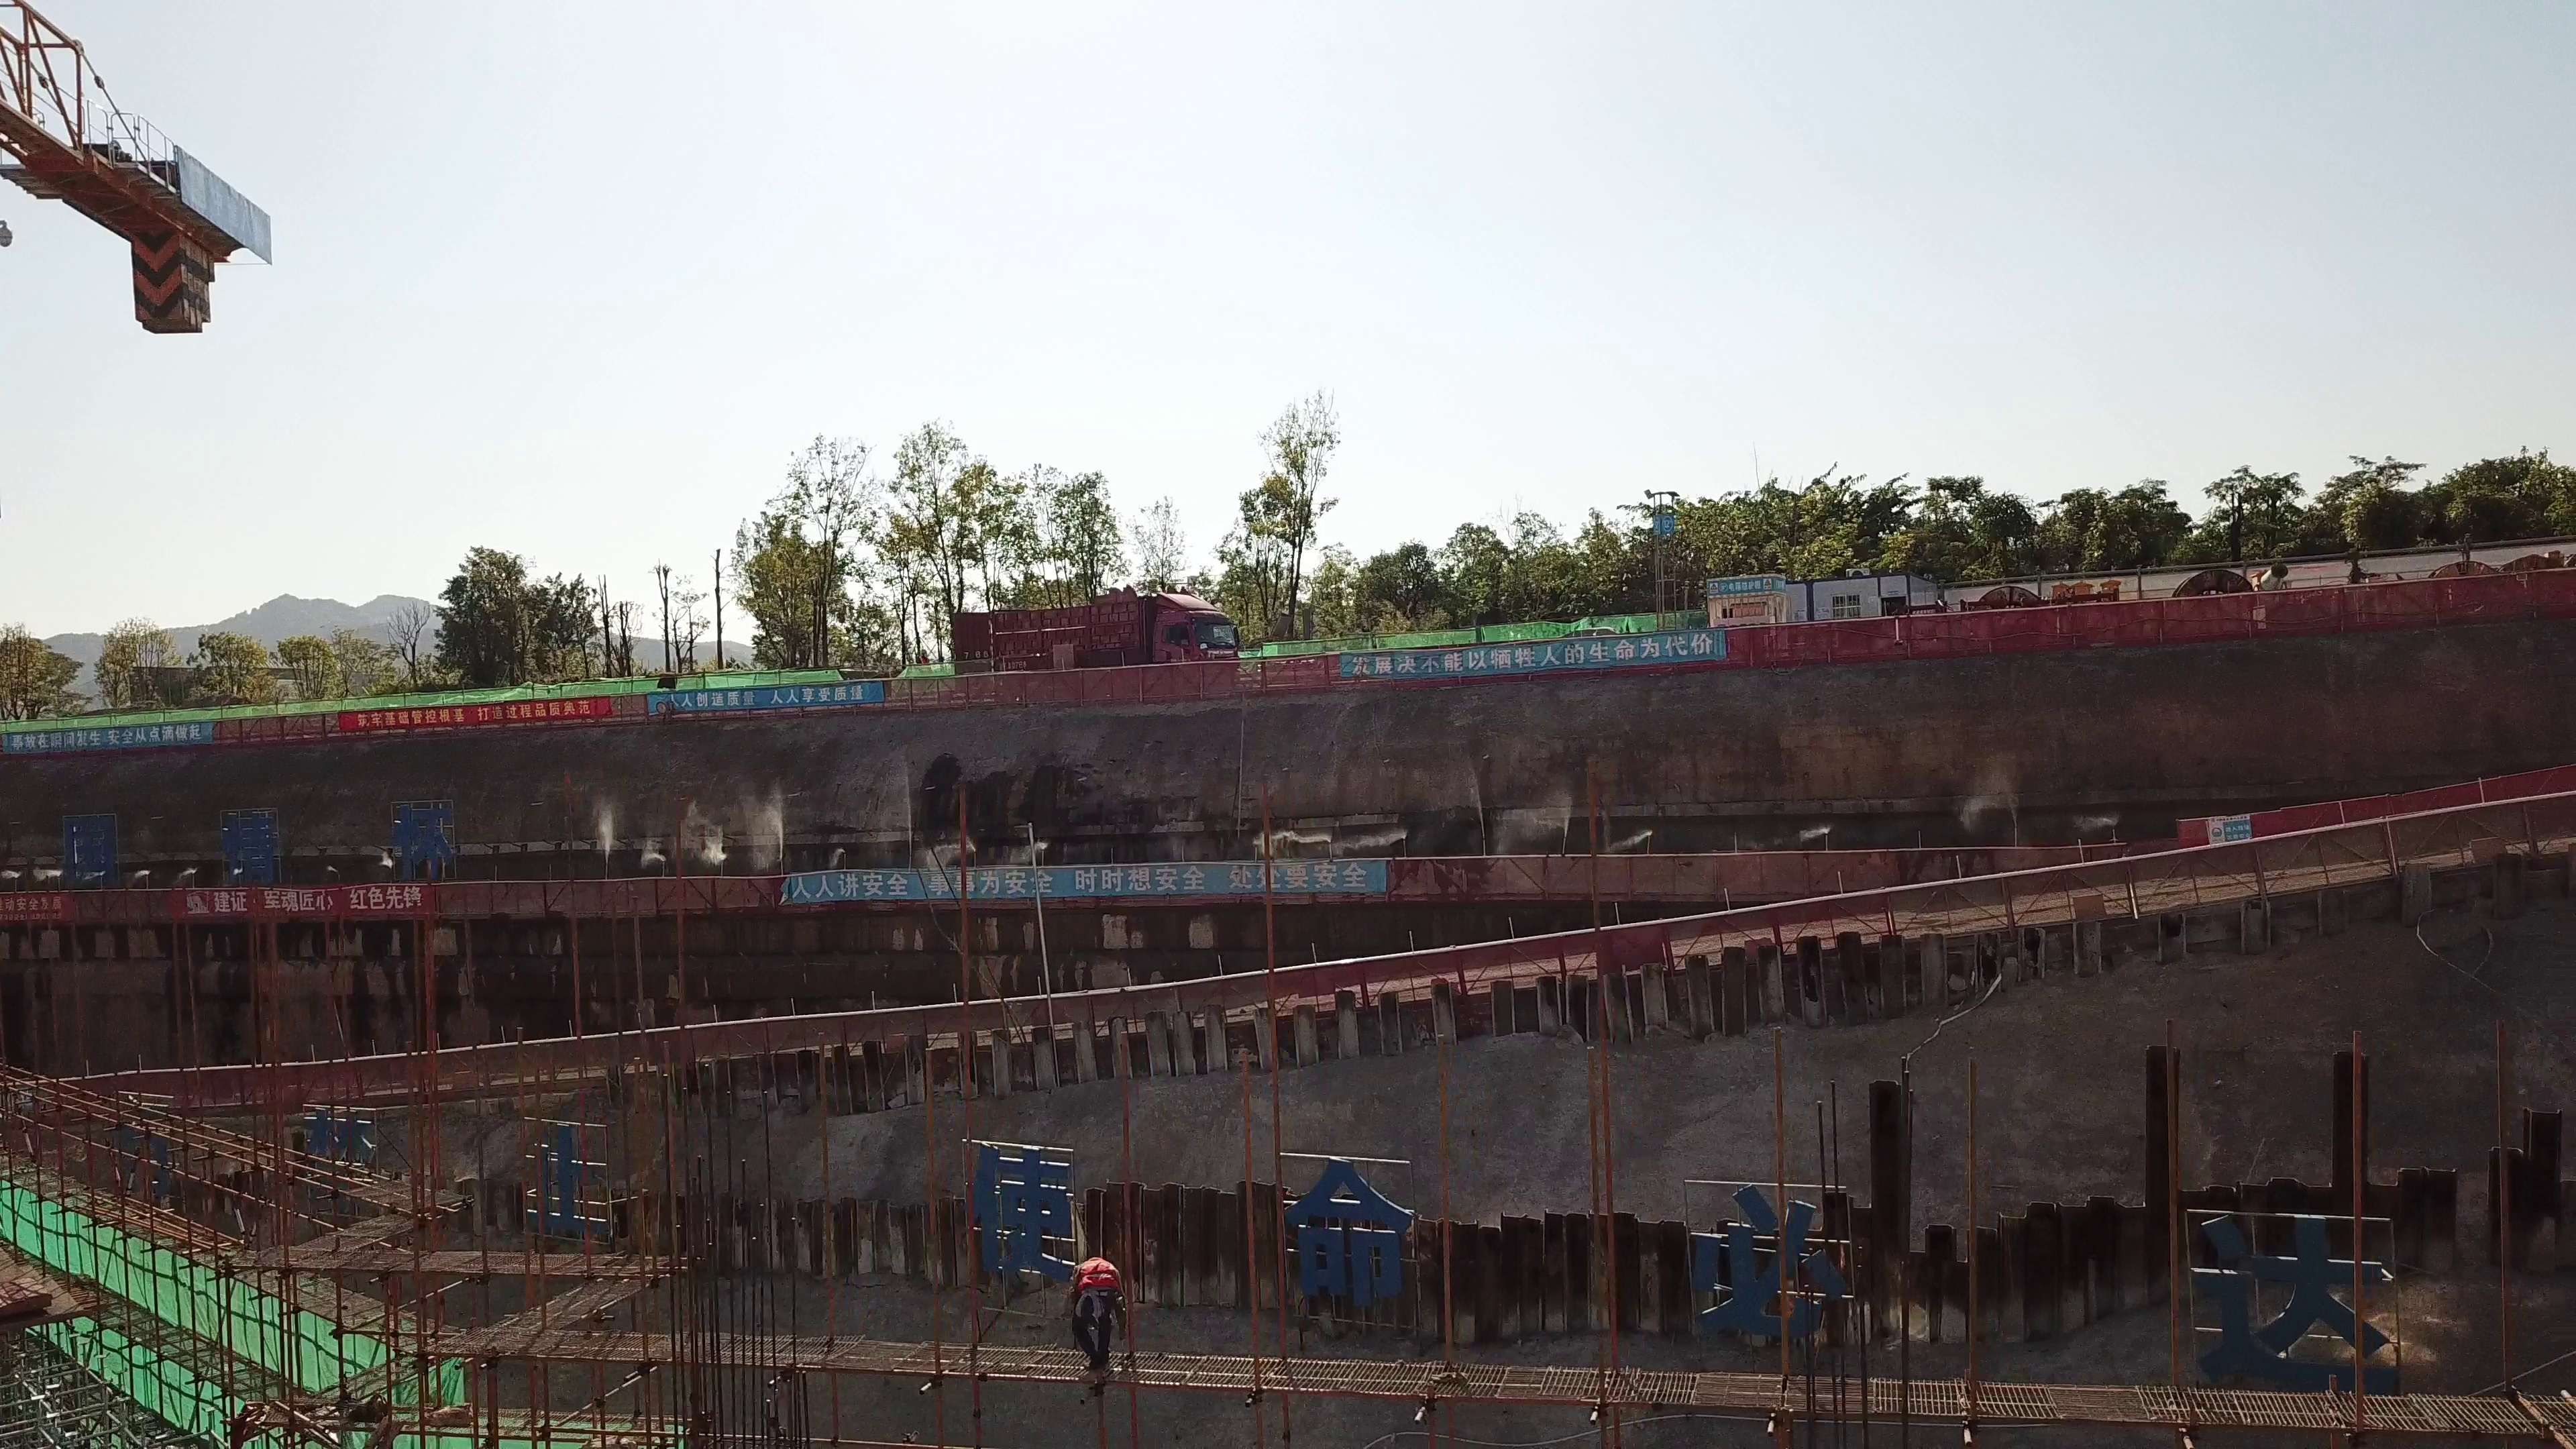fence: (2062, 570, 2569, 651), (2267, 795, 2569, 896), (1460, 903, 1778, 998), (899, 651, 1337, 715), (1721, 605, 2068, 672), (1400, 845, 1845, 898), (2010, 853, 2265, 935), (1775, 881, 2002, 972), (437, 868, 772, 924)
person: (1054, 1248, 1139, 1380)
slogan: (775, 857, 1393, 910), (1344, 629, 1724, 680), (172, 883, 433, 924), (339, 692, 619, 729), (645, 680, 890, 718), (4, 718, 221, 759)
vest: (1074, 1254, 1120, 1287)
